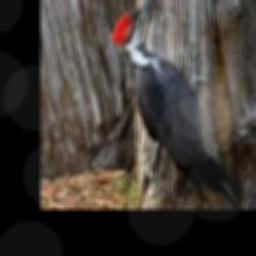Woodpecker: (109, 0, 237, 206)
